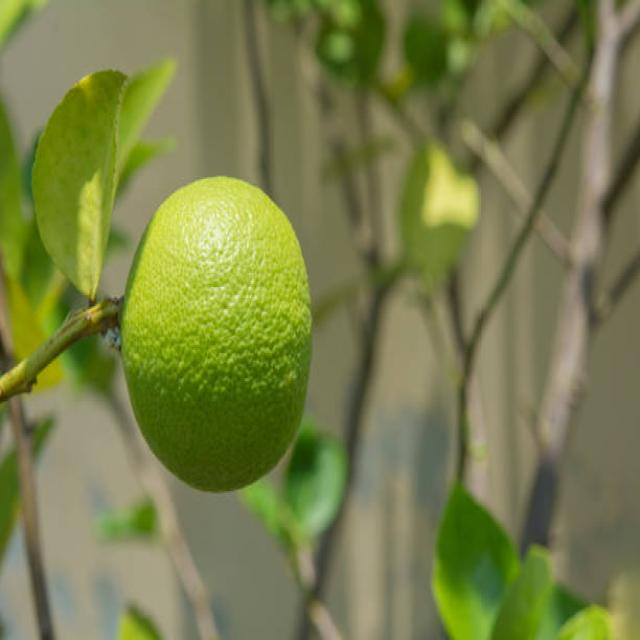Unripe: (116, 174, 311, 493)
